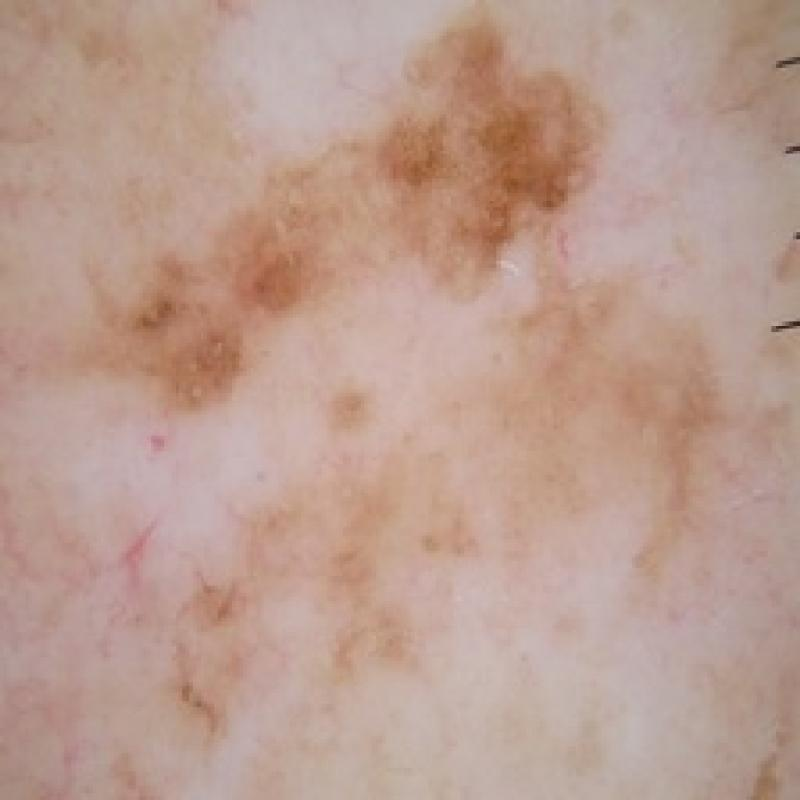malignant: (93, 21, 617, 439)
